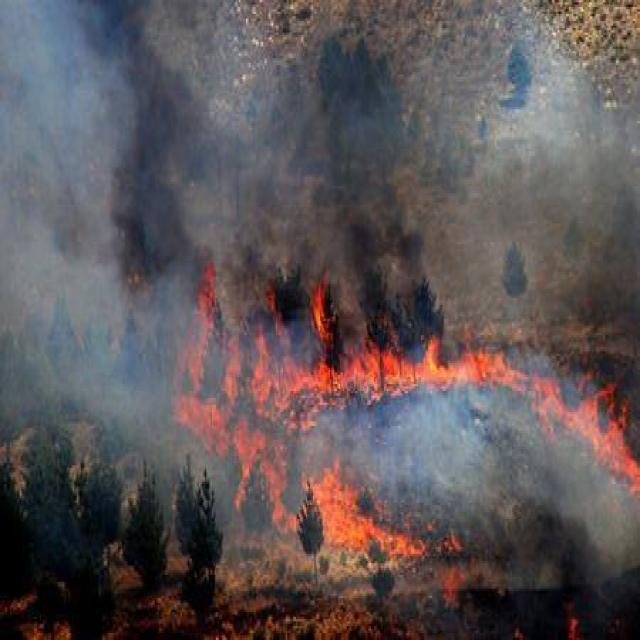fire: (183, 260, 633, 552)
